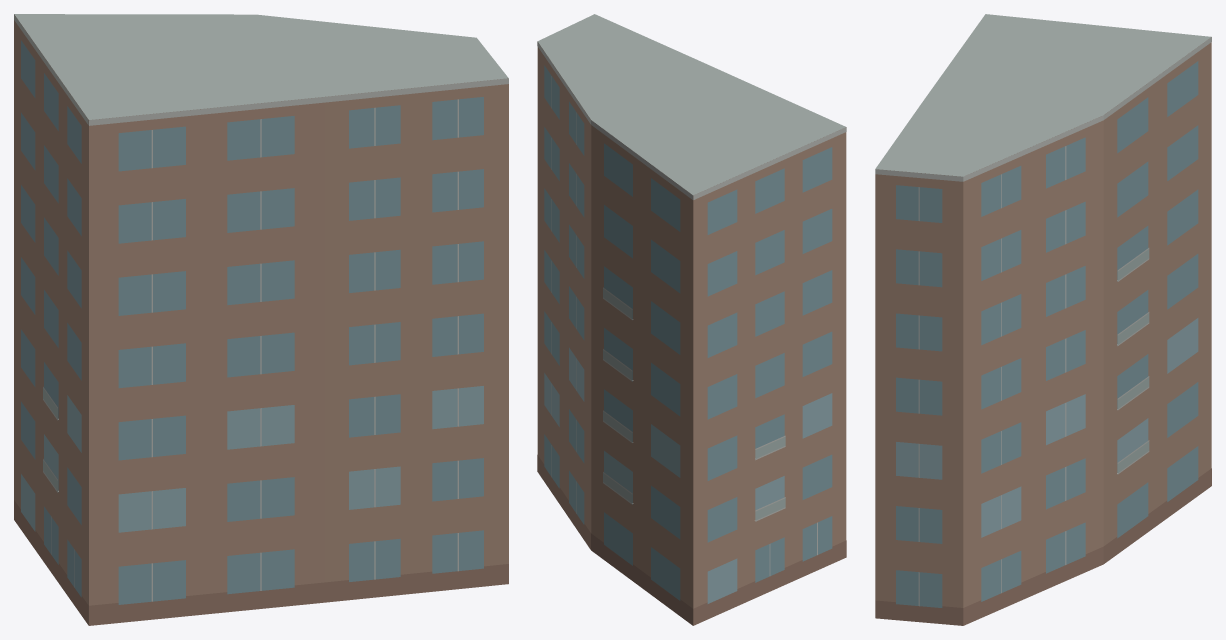
Rendered from survey-upis-32633995.glb.
The picture shows the model from 3 angles, left to right: view 1: azimuth 30°, elevation 25°; view 2: azimuth 150°, elevation 25°; view 3: azimuth 270°, elevation 25°; orthographic projection. The views are drawn at different scales.
Visible parts, largest first — view 1: survey-upis-32633995.tmp; view 2: survey-upis-32633995.tmp; view 3: survey-upis-32633995.tmp.
Part boxes in pixels (x1,y1,x2,y2): survey-upis-32633995.tmp: (14, 14, 508, 625); survey-upis-32633995.tmp: (537, 14, 846, 625); survey-upis-32633995.tmp: (875, 14, 1211, 625).
Bounding box in the file's own units: 16.59 × 21.35 × 14.51.
